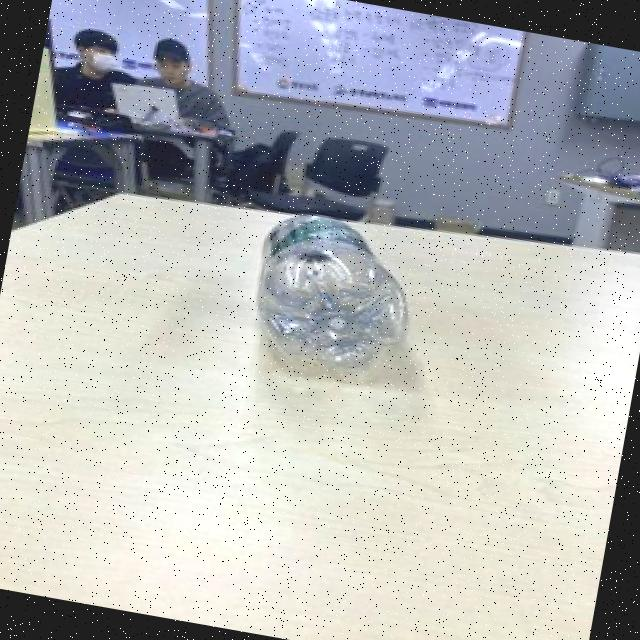bottle: (237, 196, 430, 400)
